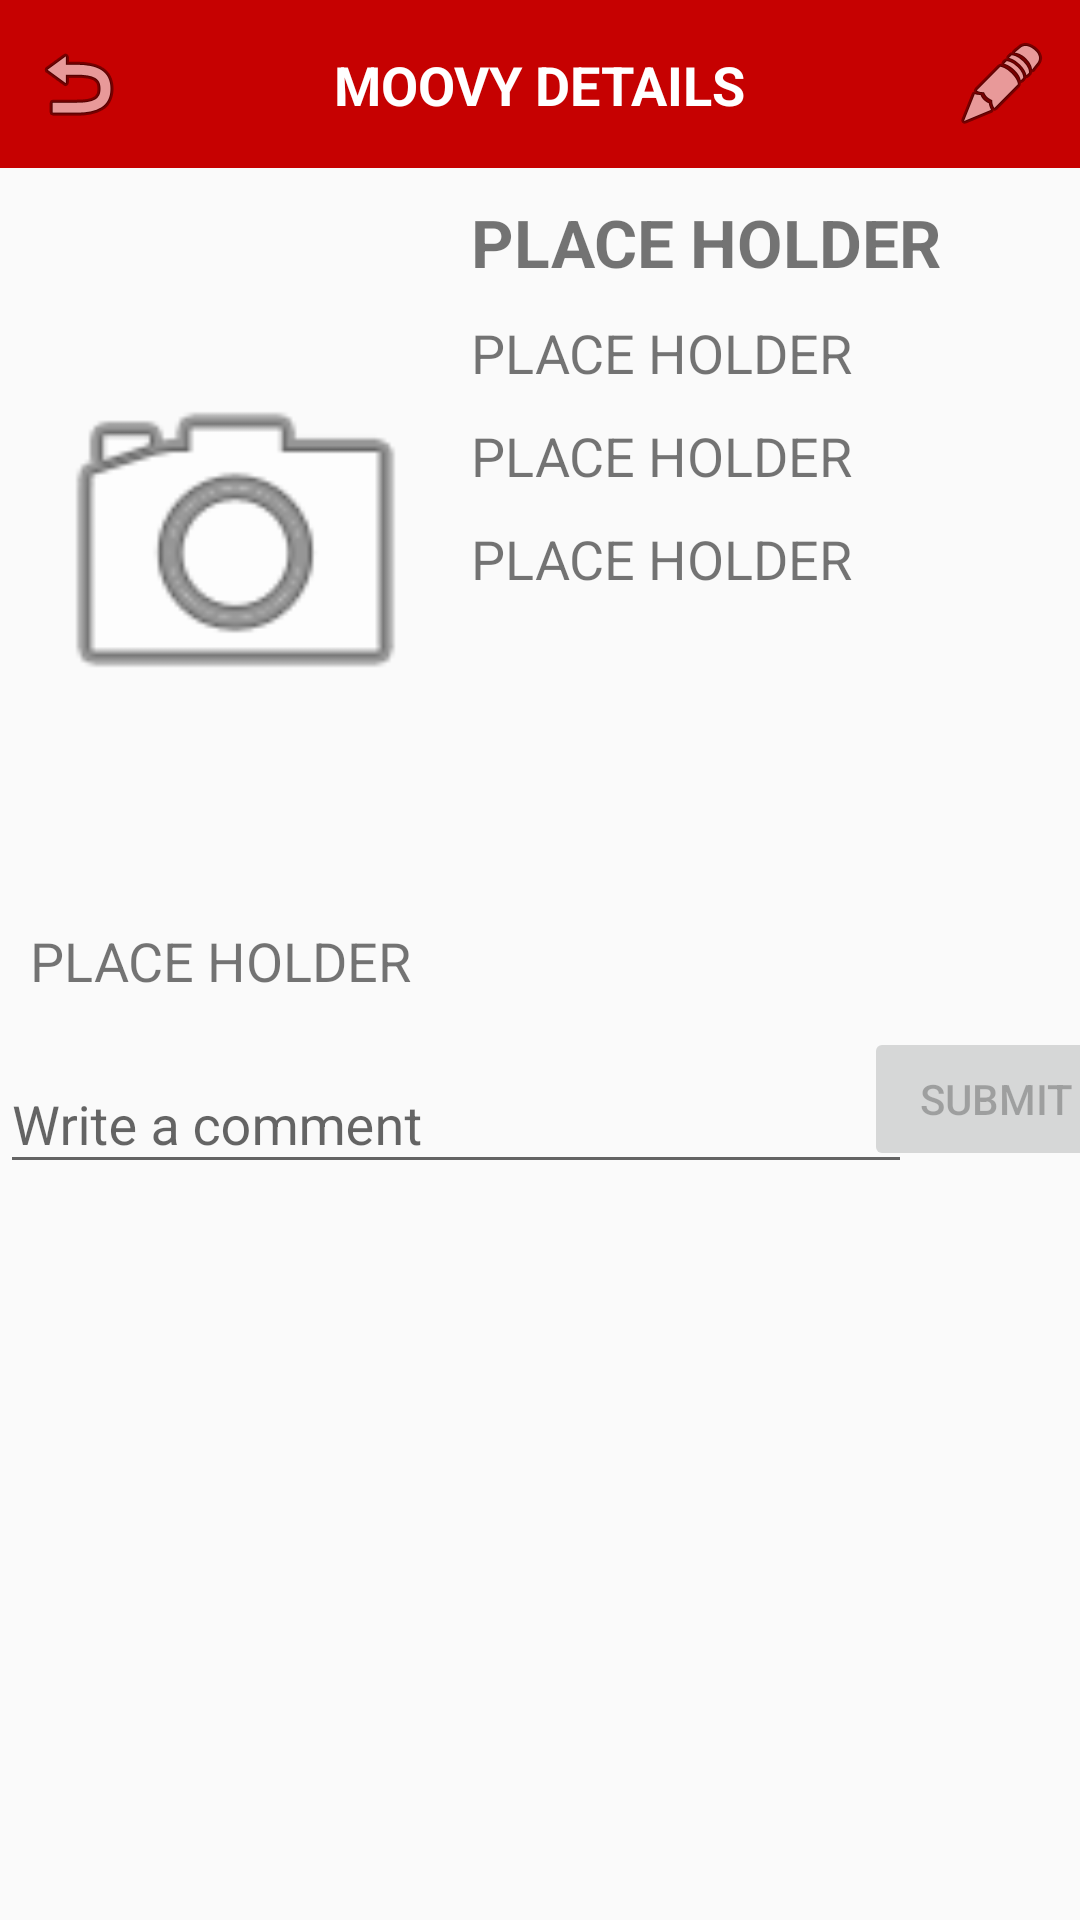

Where icons sit on this 1080 x 1920 app screen, as (x1, y1, x2, y2):
camera: (76, 413, 395, 666)
edit: (961, 43, 1042, 124)
revert: (45, 53, 114, 116)
